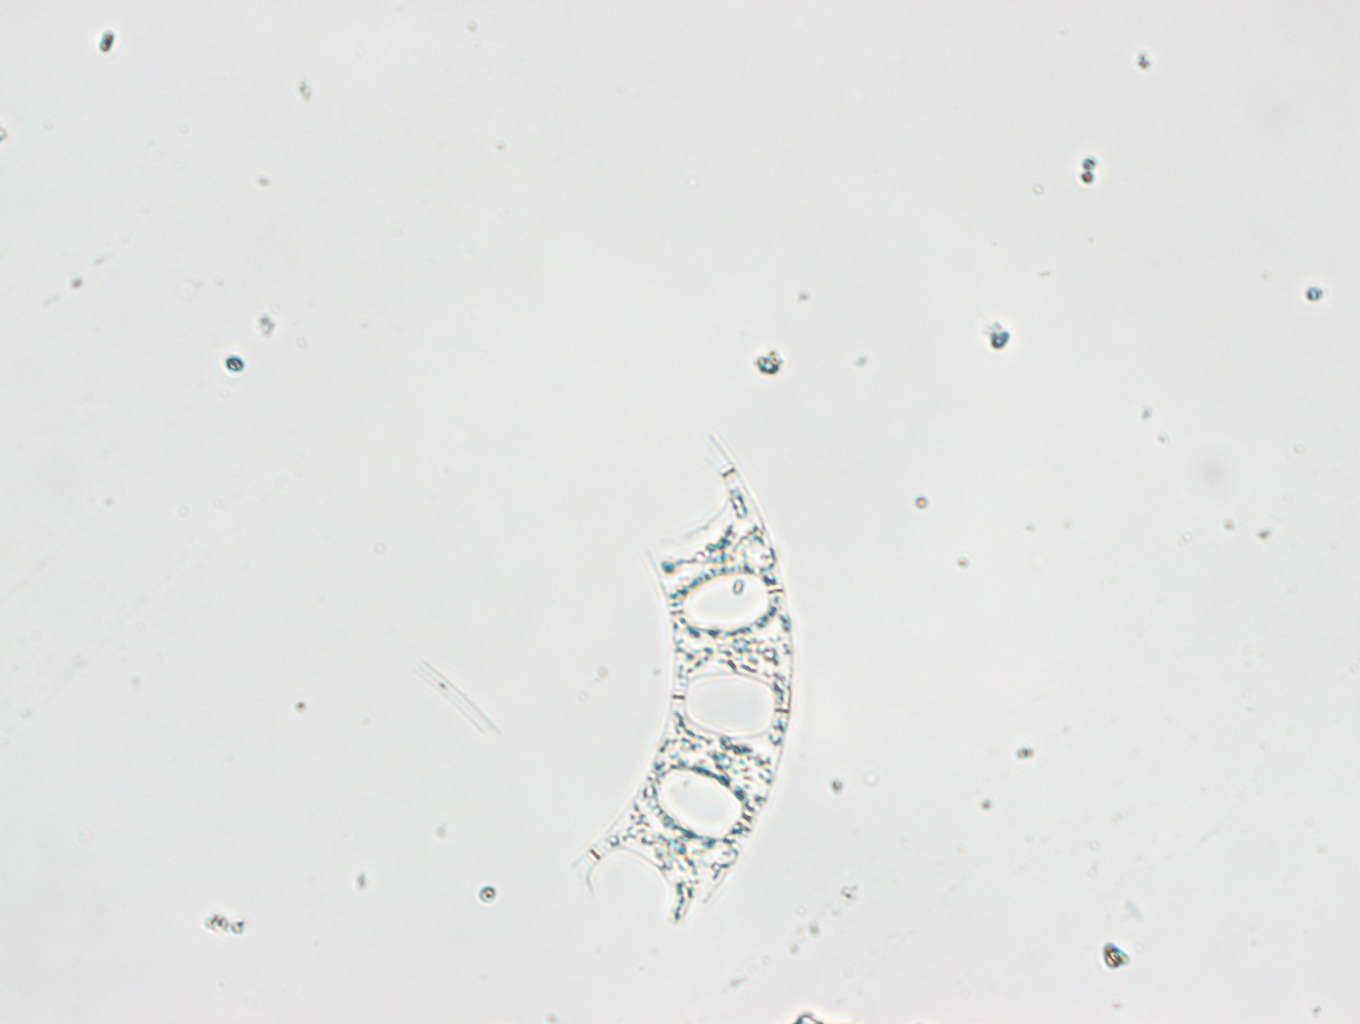eucampia: (562, 431, 791, 920)
